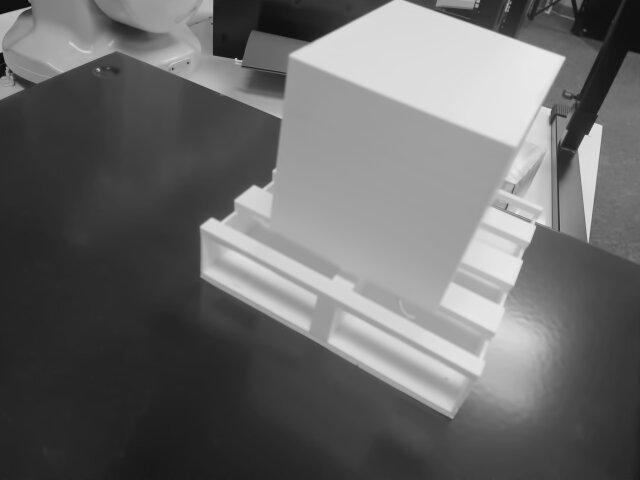white pallet: (176, 0, 571, 426)
